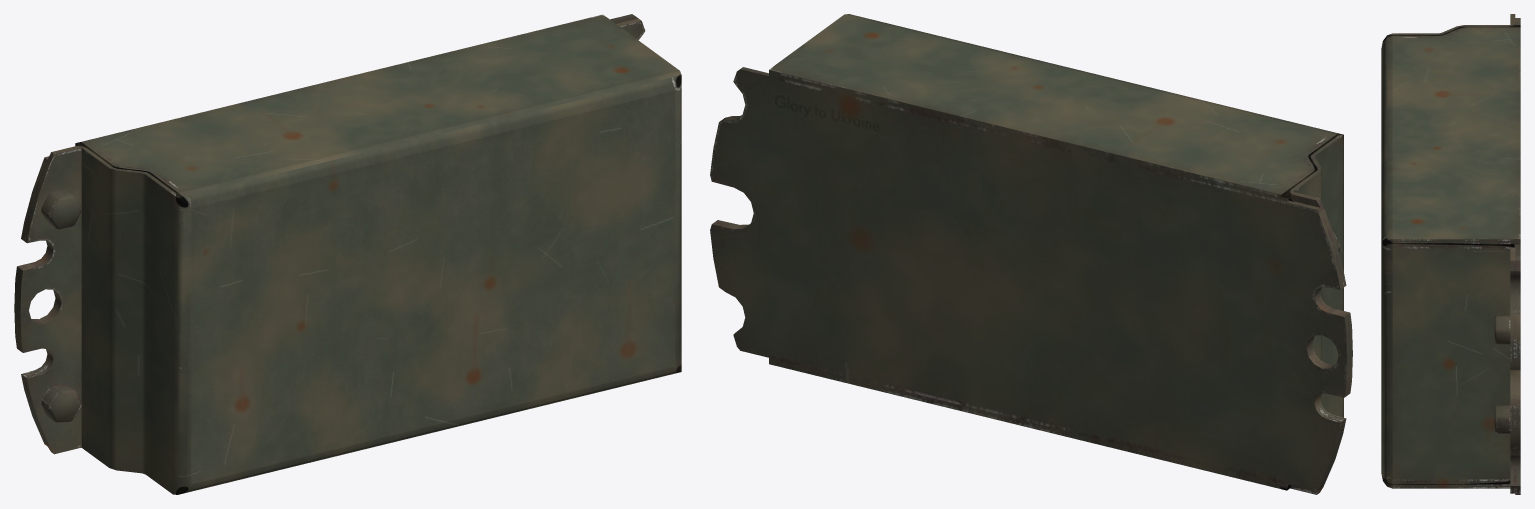
The model's file is kitera.glb.
3 views of the same model, side by side, from view 1: azimuth 30°, elevation 25°; view 2: azimuth 150°, elevation 25°; view 3: azimuth 270°, elevation 25° (orthographic). The views are drawn at different scales.
Parts seen in each view (by area): view 1: V_kitera__Body_1; view 2: V_kitera__Body_1; view 3: V_kitera__Body_1.
Boxes of the visible parts, bbox=[...] form: V_kitera__Body_1: bbox=[14, 14, 681, 494]; V_kitera__Body_1: bbox=[710, 14, 1352, 494]; V_kitera__Body_1: bbox=[1381, 14, 1520, 494].
Size of the model in its own units: 0.3136 by 0.1386 by 0.07.
Materials: 1 (1 with a texture image).
